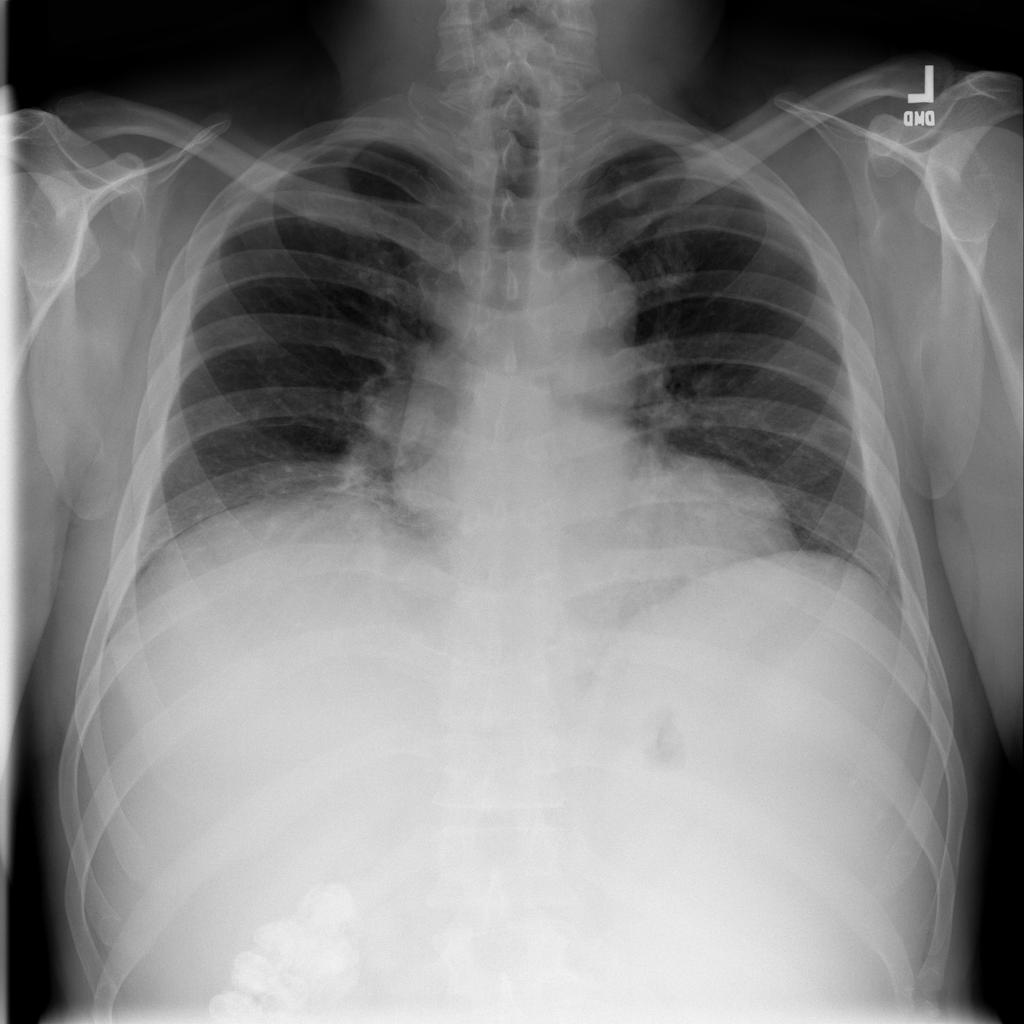nodule: (682, 358, 739, 406), (604, 166, 660, 213)
